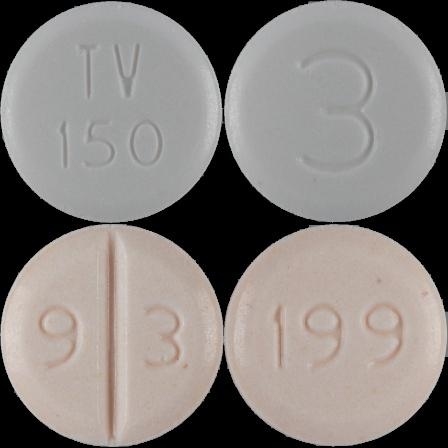0093-0150: (0, 0, 224, 224)
